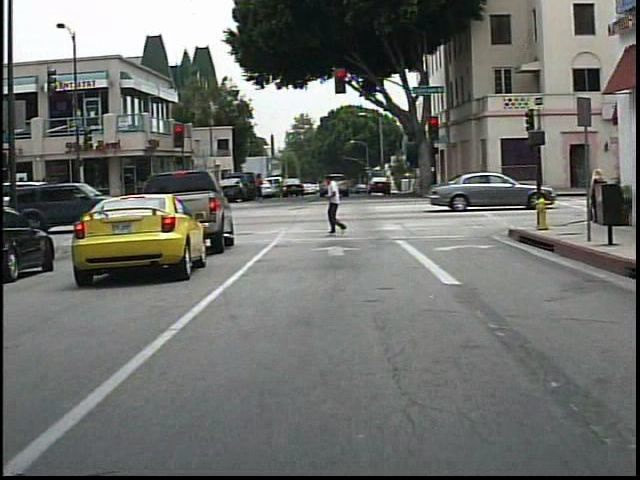person: (321, 170, 353, 238), (585, 165, 610, 225), (250, 169, 274, 209)
